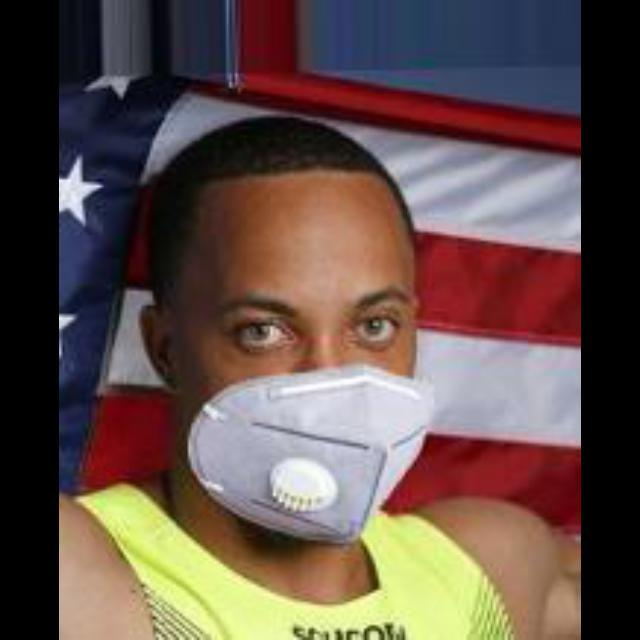suspicion: (154, 80, 436, 542)
